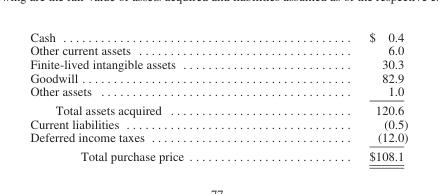table: (29, 29, 407, 162)
table column: (29, 29, 275, 162), (275, 29, 407, 162)
table row: (29, 84, 407, 100), (29, 100, 407, 116), (29, 130, 407, 146), (29, 146, 407, 162), (29, 29, 407, 43), (29, 56, 407, 70), (29, 70, 407, 84), (29, 116, 407, 130), (29, 43, 407, 56)
